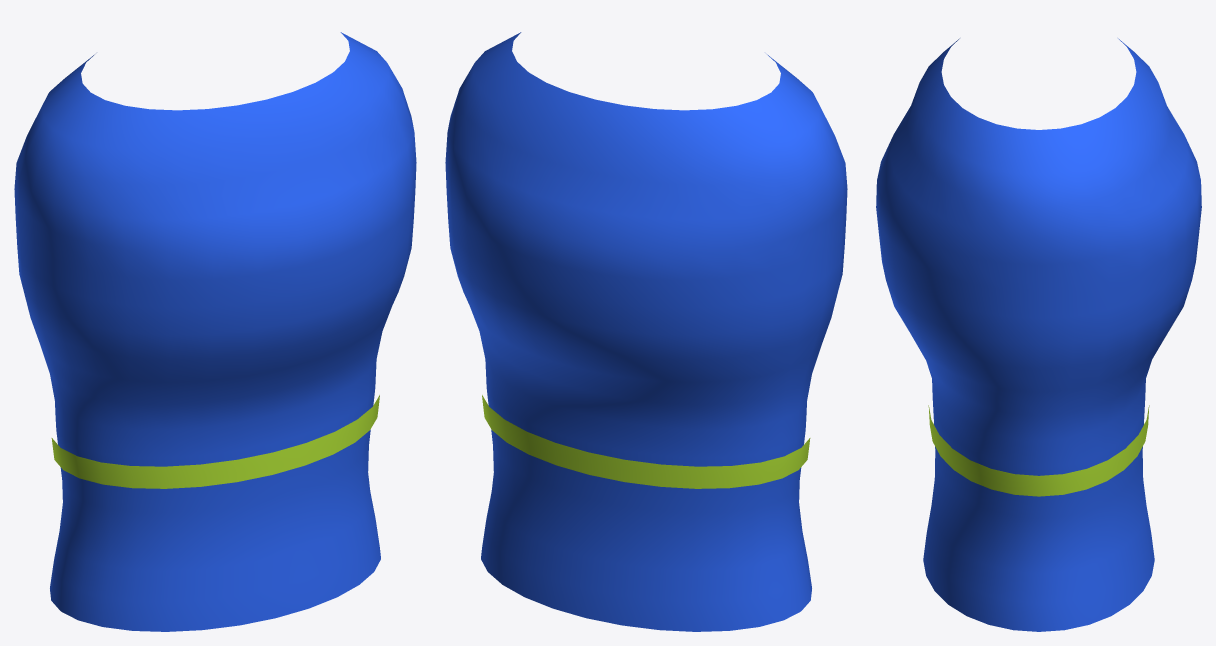
File: top_singlet_female.glb
3 views of the same model, side by side, from view 1: azimuth 30°, elevation 25°; view 2: azimuth 150°, elevation 25°; view 3: azimuth 270°, elevation 25° (orthographic). The views are drawn at different scales.
Visible parts, largest first — view 1: shirt, stripe; view 2: shirt, stripe; view 3: shirt, stripe.
Boxes of the visible parts, left/top/right/bottom form: shirt: left=14, top=32, right=416, bottom=631; stripe: left=51, top=395, right=379, bottom=488; shirt: left=445, top=32, right=847, bottom=631; stripe: left=482, top=395, right=810, bottom=488; shirt: left=876, top=38, right=1201, bottom=631; stripe: left=928, top=405, right=1149, bottom=496.
Size of the model in its own units: 0.2999 by 0.4 by 0.242.
